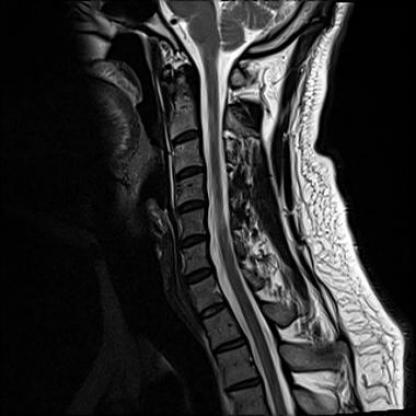Disc Bulgerotation: (183, 264, 215, 289), (174, 165, 205, 180)
